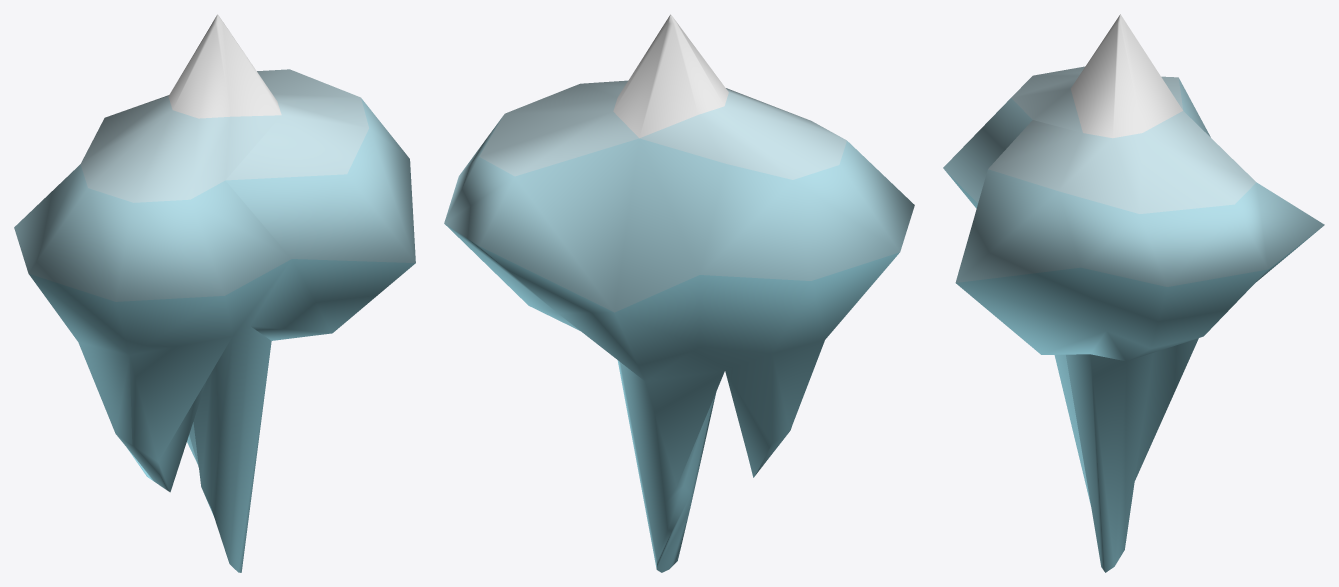
File: iceburg.fbx
3 renders of one model, left to right at view 1: azimuth 30°, elevation 25°; view 2: azimuth 150°, elevation 25°; view 3: azimuth 270°, elevation 25°, orthographic. The views are drawn at different scales.
Visible parts, largest first — view 1: iceburg; view 2: iceburg; view 3: iceburg.
Boxes of the visible parts, bbox=[...] form: iceburg: bbox=[14, 14, 415, 572]; iceburg: bbox=[444, 14, 914, 572]; iceburg: bbox=[943, 14, 1324, 572].
Bounding box in the file's own units: 5.52 × 7.52 × 4.73.
